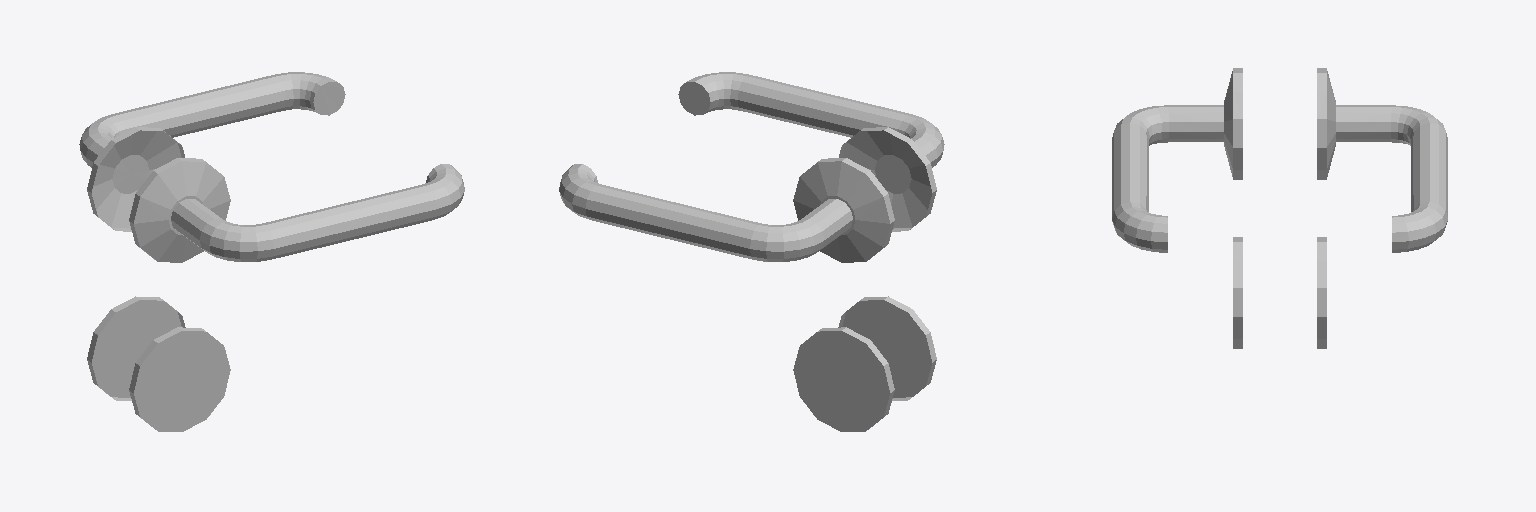
Rendered from door_handle.obj.
3 renders of one model, left to right at view 1: azimuth 30°, elevation 25°; view 2: azimuth 150°, elevation 25°; view 3: azimuth 270°, elevation 25°, orthographic.
Visible parts, largest first — view 1: Door.013; view 2: Door.013; view 3: Door.013.
Boxes of the visible parts, x1=… form: Door.013: x1=79, y1=72, x2=464, y2=431; Door.013: x1=559, y1=72, x2=944, y2=431; Door.013: x1=1112, y1=68, x2=1447, y2=348.
Bounding box in the file's own units: 0.1625 × 0.1444 × 0.1625.